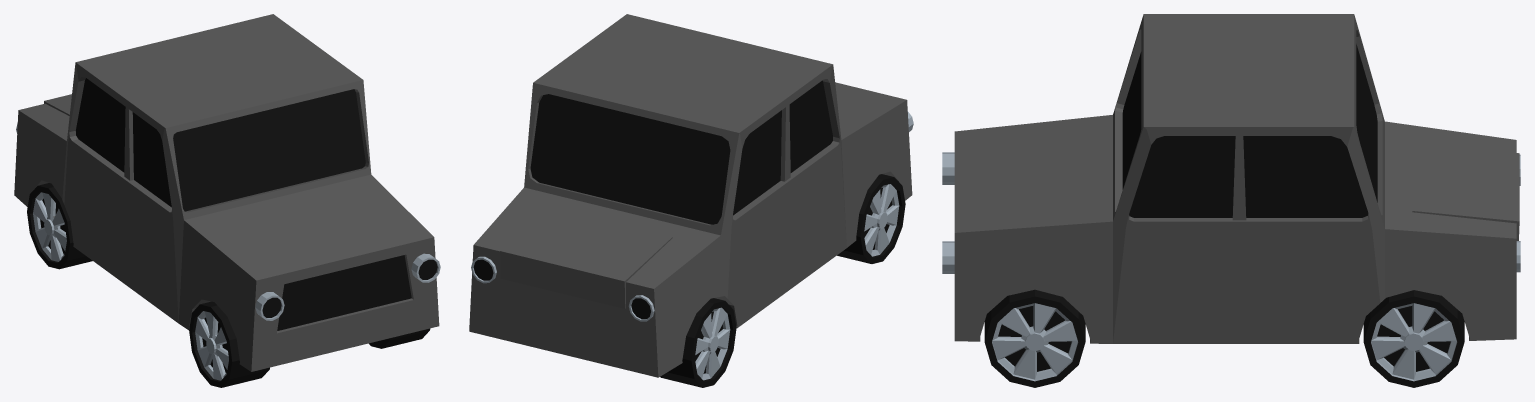
The model's file is auto.fbx.
3 renders of one model, left to right at view 1: azimuth 30°, elevation 25°; view 2: azimuth 150°, elevation 25°; view 3: azimuth 270°, elevation 25°, orthographic. The views are drawn at different scales.
Parts seen in each view (by area): view 1: Cube; view 2: Cube; view 3: Cube.
Part boxes in pixels (x1,y1,x2,y2): Cube: (14,14,440,387); Cube: (469,14,913,387); Cube: (942,14,1520,387).
Size of the model in its own units: 517 by 546 by 1100.
Materials: 1 (1 with a texture image).
